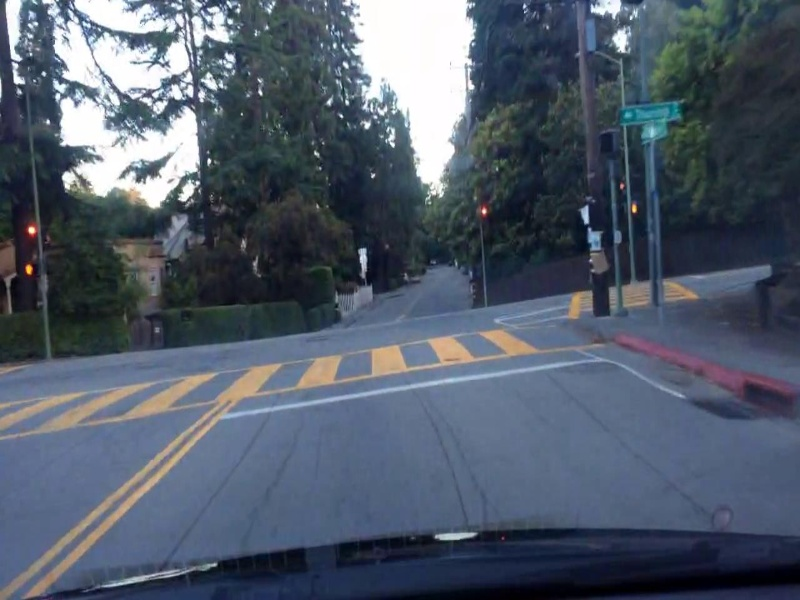car: (427, 254, 442, 267)
